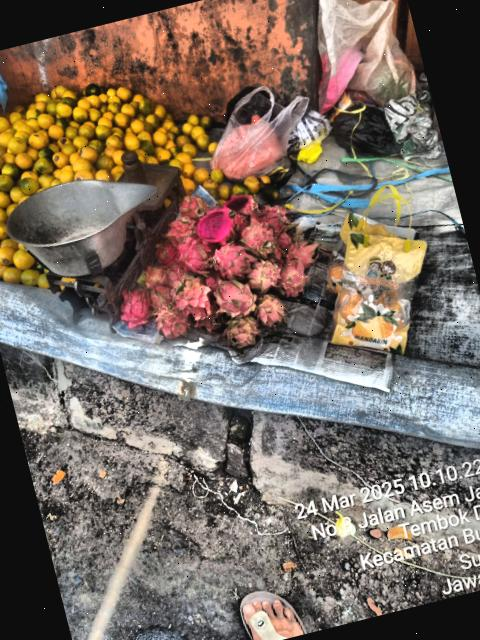buah-naga-belum-matang: (170, 272, 217, 327), (211, 276, 258, 322), (246, 286, 288, 332), (239, 216, 280, 260), (244, 255, 286, 294), (274, 253, 310, 297), (152, 300, 188, 342), (223, 312, 260, 348), (146, 282, 174, 312), (140, 266, 168, 292), (164, 263, 186, 288)
buah-naga-matang: (208, 239, 256, 281), (113, 289, 156, 330), (279, 234, 321, 269), (176, 236, 214, 274), (174, 190, 213, 224), (259, 198, 292, 232), (166, 215, 198, 242), (154, 240, 184, 268), (273, 226, 292, 248)
